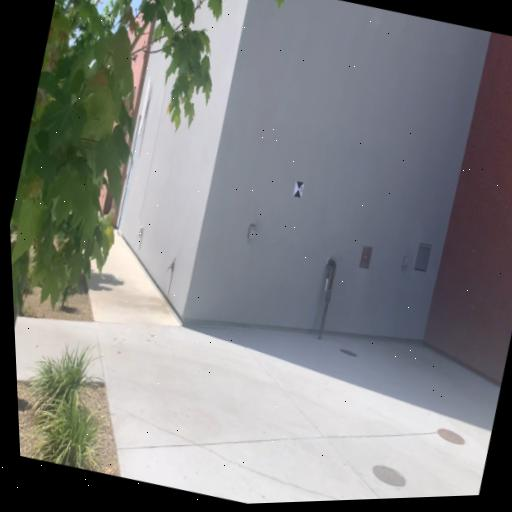target5: (292, 181, 305, 199)
